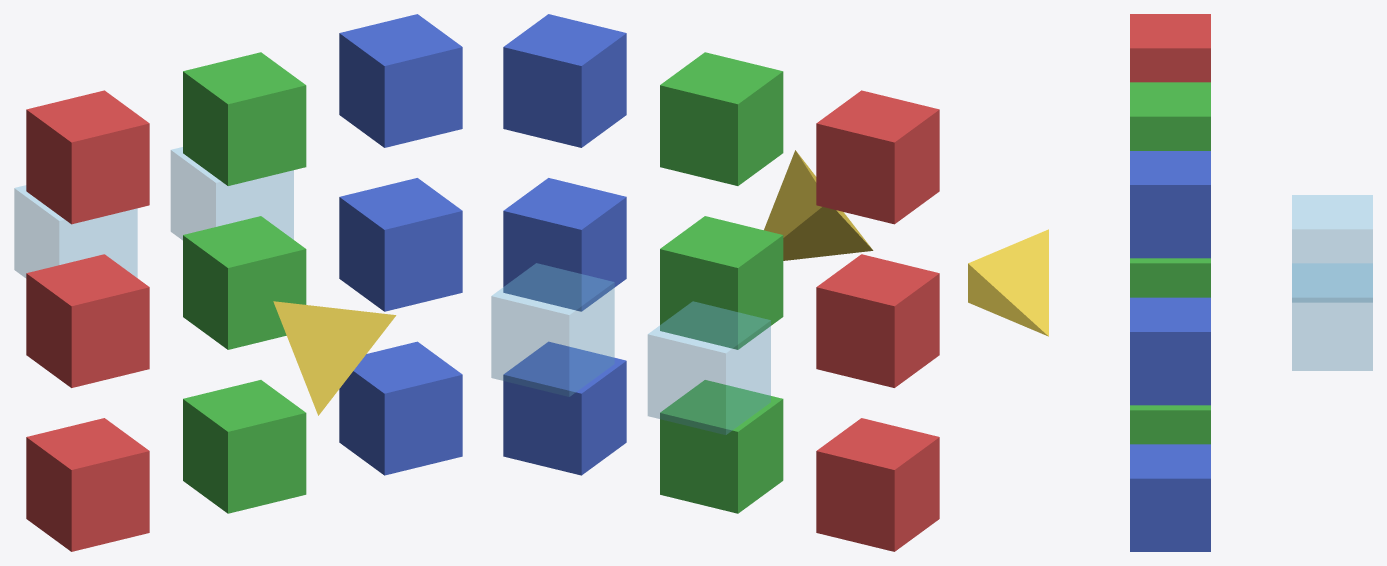
Rendered from duplicated-boxes.glb.
3 renders of one model, left to right at view 1: azimuth 30°, elevation 25°; view 2: azimuth 150°, elevation 25°; view 3: azimuth 270°, elevation 25°, orthographic. The views are drawn at different scales.
Visible parts, largest first — view 1: box_node_6, box_node_0, box_node_1, box_node_7, box_node_3, box_node_8, box_node_5, box_node_2, box_node_4, tetra_node, transparent_node_0, transparent_node_1; view 2: box_node_6, box_node_7, box_node_8, box_node_0, box_node_3, box_node_4, box_node_2, box_node_1, box_node_5, transparent_node_1, transparent_node_0, tetra_node; view 3: box_node_5, box_node_2, box_node_8, transparent_node_0, transparent_node_1, tetra_node, box_node_6, box_node_7, box_node_1, box_node_4.
Boxes of the visible parts, x1,y1,x2,y2 form: box_node_6: (26,90,149,224); box_node_0: (26,418,149,551); box_node_1: (183,380,306,513); box_node_7: (183,52,306,185); box_node_3: (26,254,149,387); box_node_8: (339,14,462,147); box_node_5: (339,178,462,311); box_node_2: (339,341,462,475); box_node_4: (183,216,306,349); tetra_node: (273,301,396,415); transparent_node_0: (14,185,137,277); transparent_node_1: (171,147,293,239); box_node_6: (816,90,939,224); box_node_7: (660,52,783,185); box_node_8: (503,14,626,147); box_node_0: (816,418,939,551); box_node_3: (816,254,939,387); box_node_4: (660,216,783,349); box_node_2: (503,341,626,475); box_node_1: (660,380,783,513); box_node_5: (503,178,626,311); transparent_node_1: (491,263,614,396); transparent_node_0: (648,301,770,434); tetra_node: (764,150,873,260); box_node_5: (1130,297,1210,405); box_node_2: (1130,444,1210,551); box_node_8: (1130,151,1210,258); transparent_node_0: (1292,195,1372,302); transparent_node_1: (1292,263,1372,370); tetra_node: (968,229,1048,336); box_node_6: (1130,14,1210,82); box_node_7: (1130,82,1210,150); box_node_1: (1130,405,1210,444); box_node_4: (1130,258,1210,297).
Size of the model in its own units: 5 by 5 by 5.
